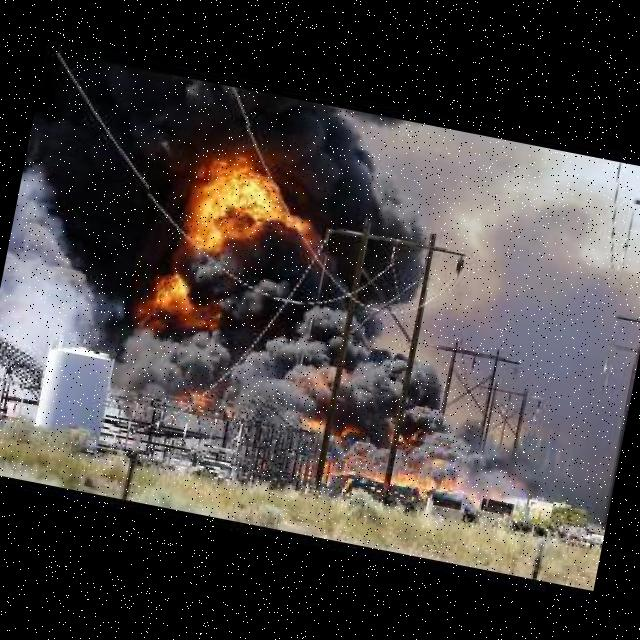fire: (108, 109, 396, 443)
